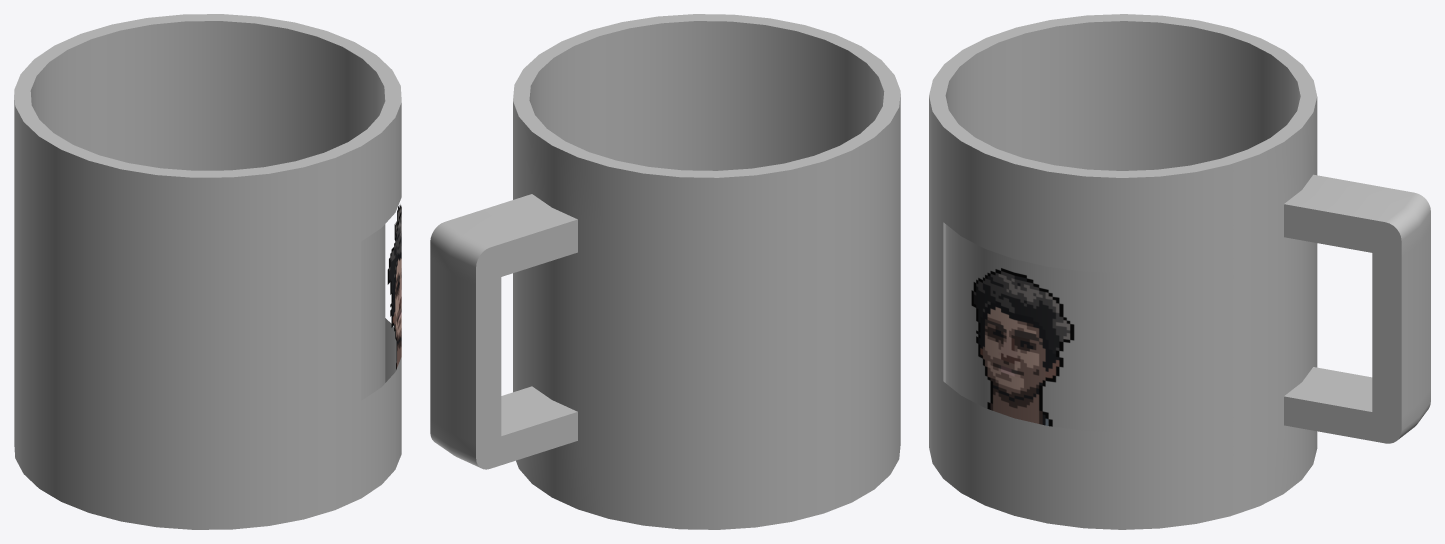
The model's file is Mug.gltf.
3 renders of one model, left to right at view 1: azimuth 30°, elevation 25°; view 2: azimuth 150°, elevation 25°; view 3: azimuth 270°, elevation 25°, orthographic.
Visible parts, largest first — view 1: Cylinder.001; view 2: Cylinder.001; view 3: Cylinder.001.
Part boxes in pixels (<box>): Cylinder.001: <box>14,14,401,529</box>; Cylinder.001: <box>430,14,900,529</box>; Cylinder.001: <box>929,14,1430,529</box>.
Bounding box in the file's own units: 0.6773 × 0.6773 × 0.8756.
Materials: 2 (1 with a texture image).
